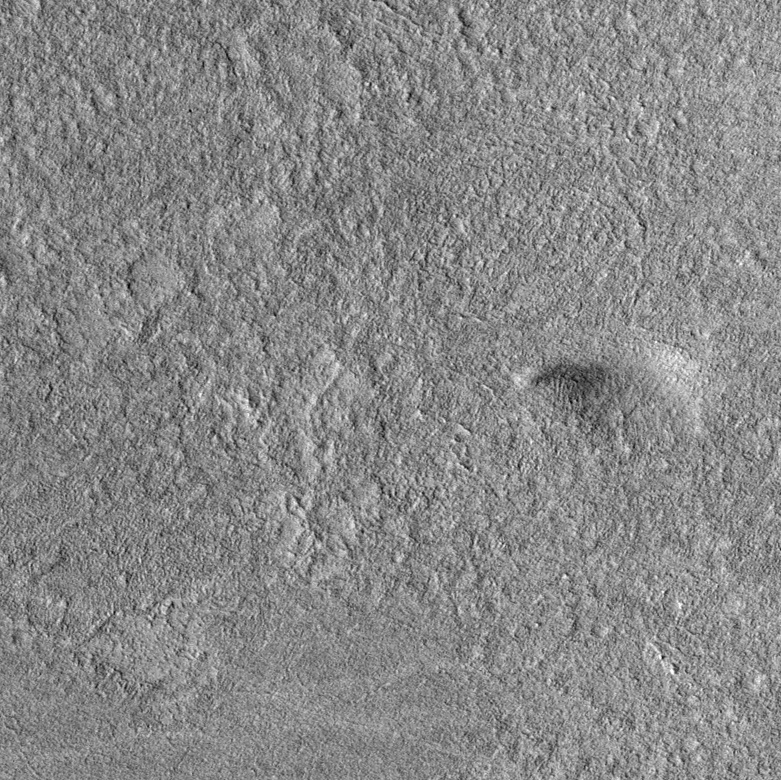dust_devil: (512, 355, 626, 434)
